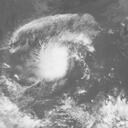cyclone: (36, 42, 70, 83)
